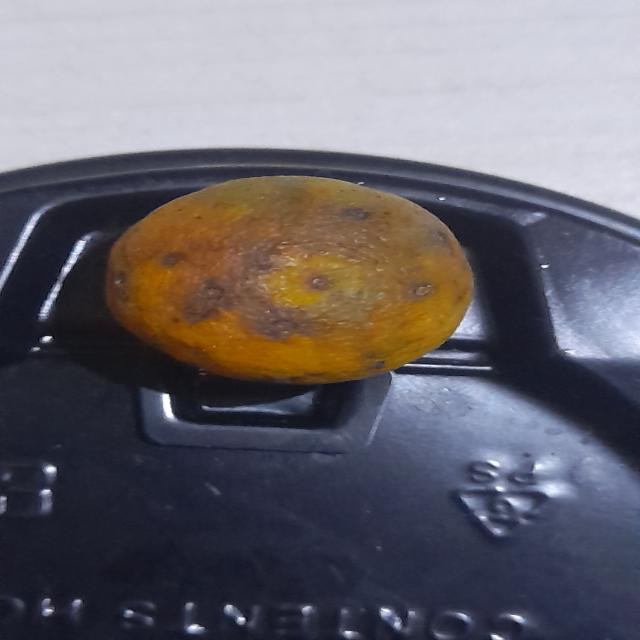black spot: (98, 176, 474, 390)
